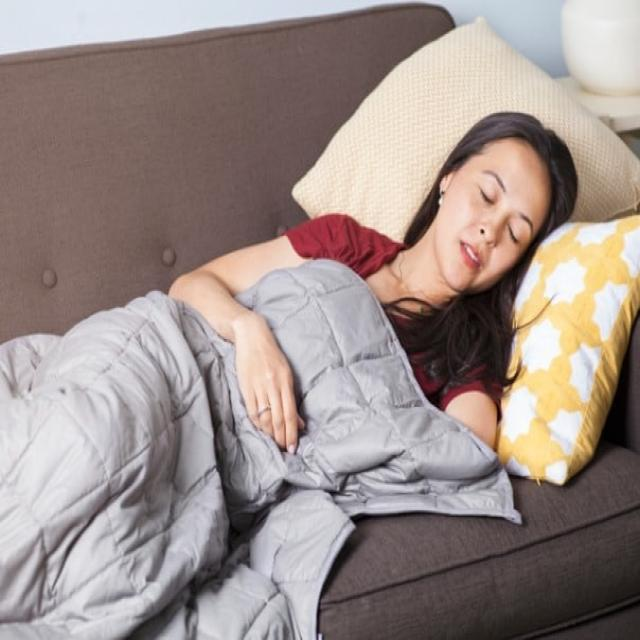blanket: (1, 261, 521, 639)
